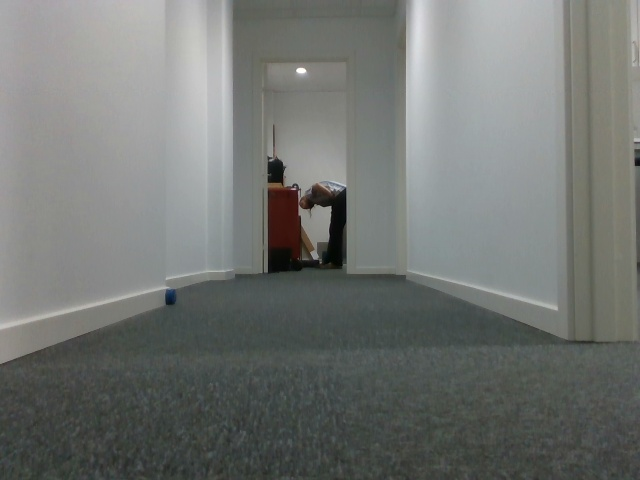alfa: (163, 285, 178, 308)
